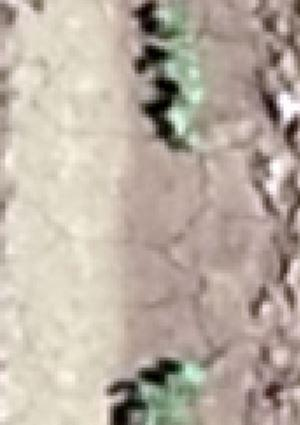cotton: (157, 394, 189, 422), (164, 110, 188, 140), (171, 364, 200, 388), (171, 73, 201, 95), (141, 389, 173, 409), (168, 49, 197, 71), (173, 92, 200, 111), (163, 9, 181, 33)
